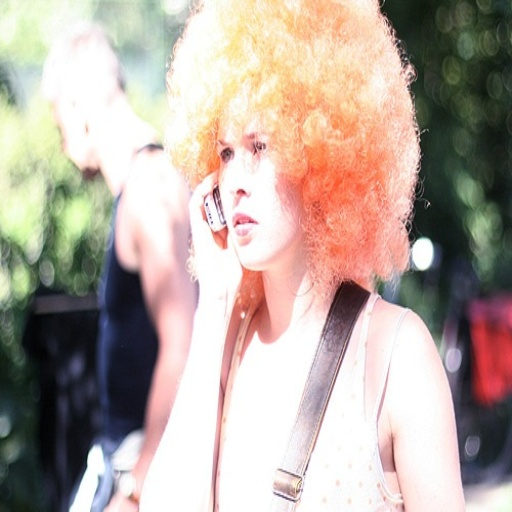hand: (99, 481, 139, 510)
